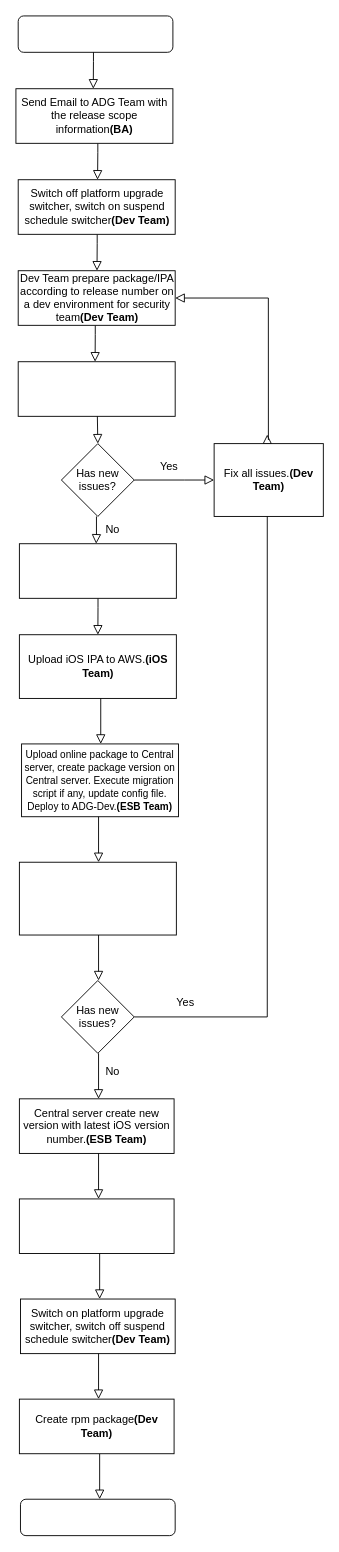
Some shapes in this 339 by 1552 pixel diagram are drawn without their labels. Each missing label, with the box of its shape:
Deploy ADG-Dev: (17, 15, 173, 52)
Dev Team prepare package/IPA according to release number (Dev Team): (18, 543, 176, 598)
Finish Deploy ADG-Dev: (20, 1498, 175, 1536)
QA test automatically upgrade on iOS (QA Team): (18, 1198, 174, 1254)
Security Team test security. (Security Team): (17, 361, 175, 416)
Test all features/bugfix in scope after deploy finished. (QA Team): (18, 861, 176, 935)
